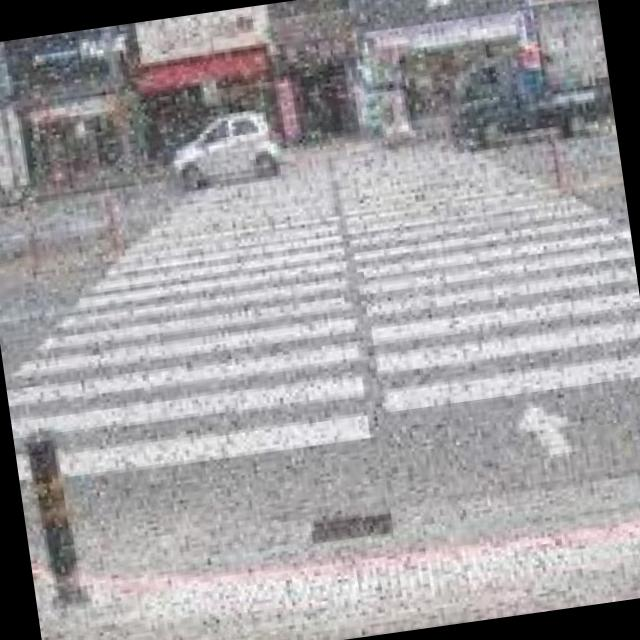zebra: (6, 115, 640, 492)
